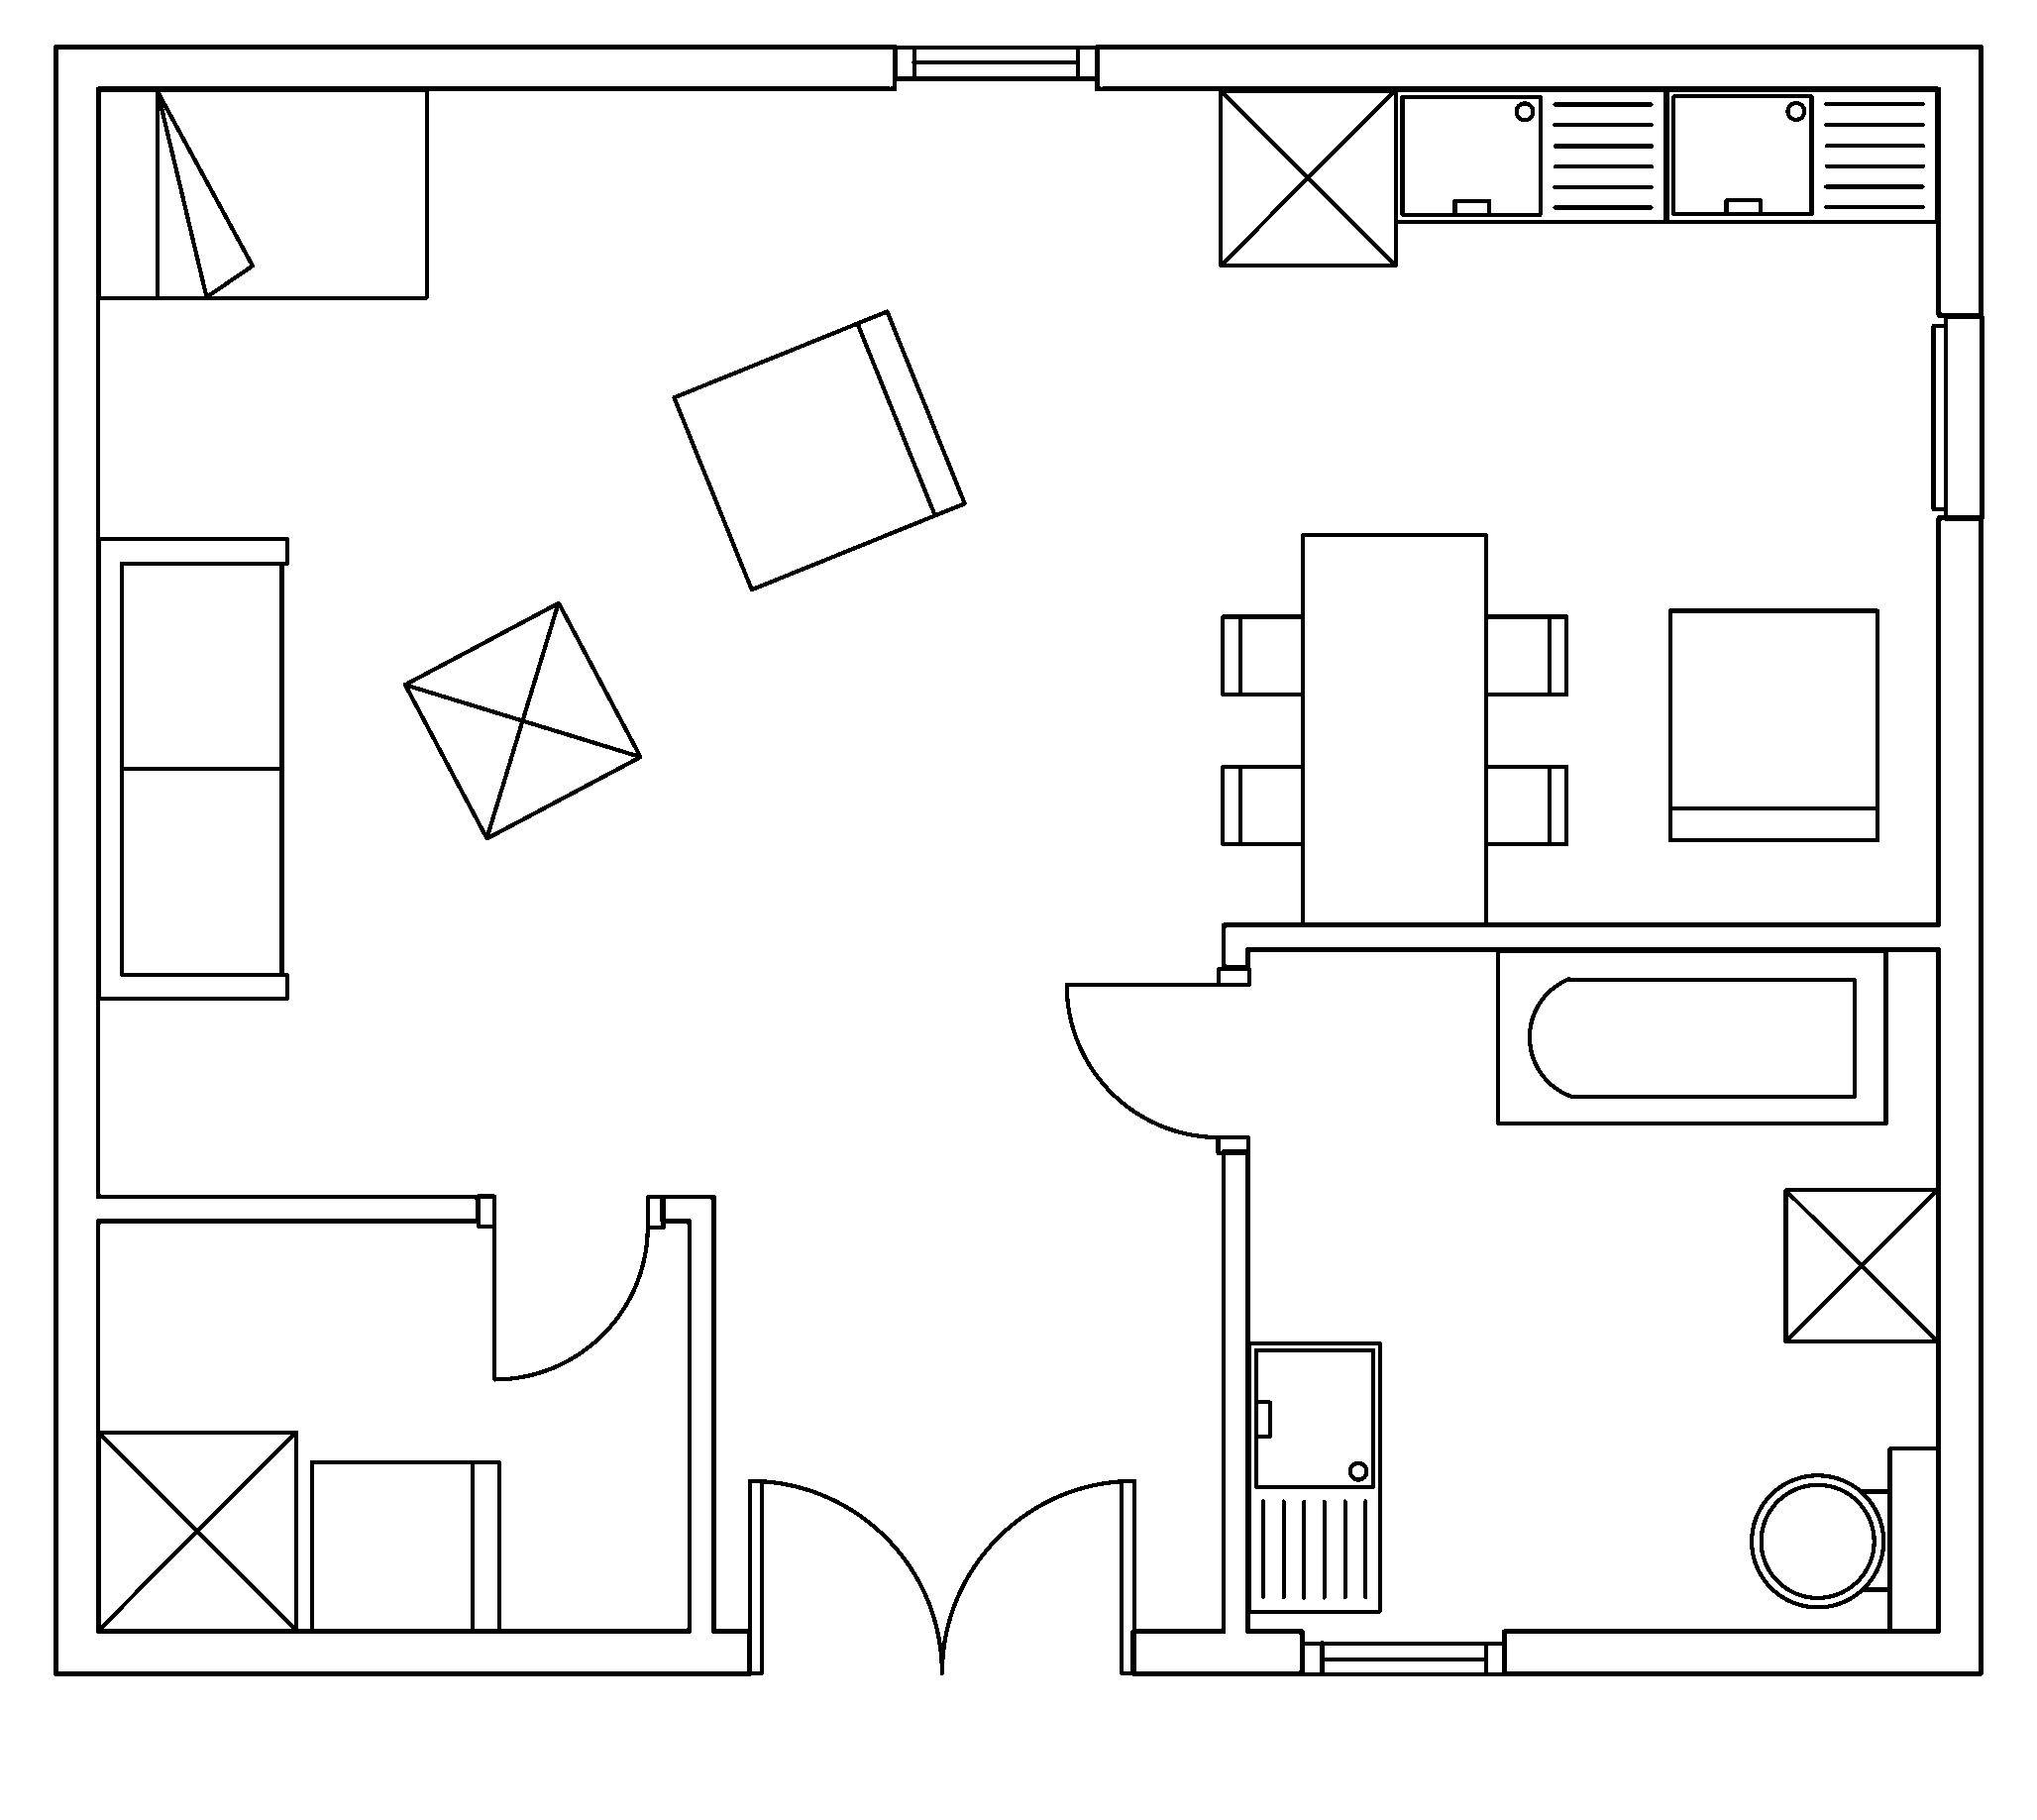bed: (95, 86, 428, 300)
coffee_table: (400, 599, 643, 841), (95, 1428, 299, 1632), (1217, 86, 1398, 267), (1781, 1186, 1940, 1344)
dining_table: (1219, 531, 1568, 926)
large_sink: (1749, 1444, 1940, 1632)
large_sofa: (95, 536, 290, 1001)
sink: (1663, 86, 1940, 223), (1245, 1339, 1382, 1614), (1393, 86, 1668, 223)
small_sofa: (669, 307, 968, 592), (1666, 606, 1879, 841), (307, 1458, 500, 1632)
tub: (1494, 947, 1888, 1126)
